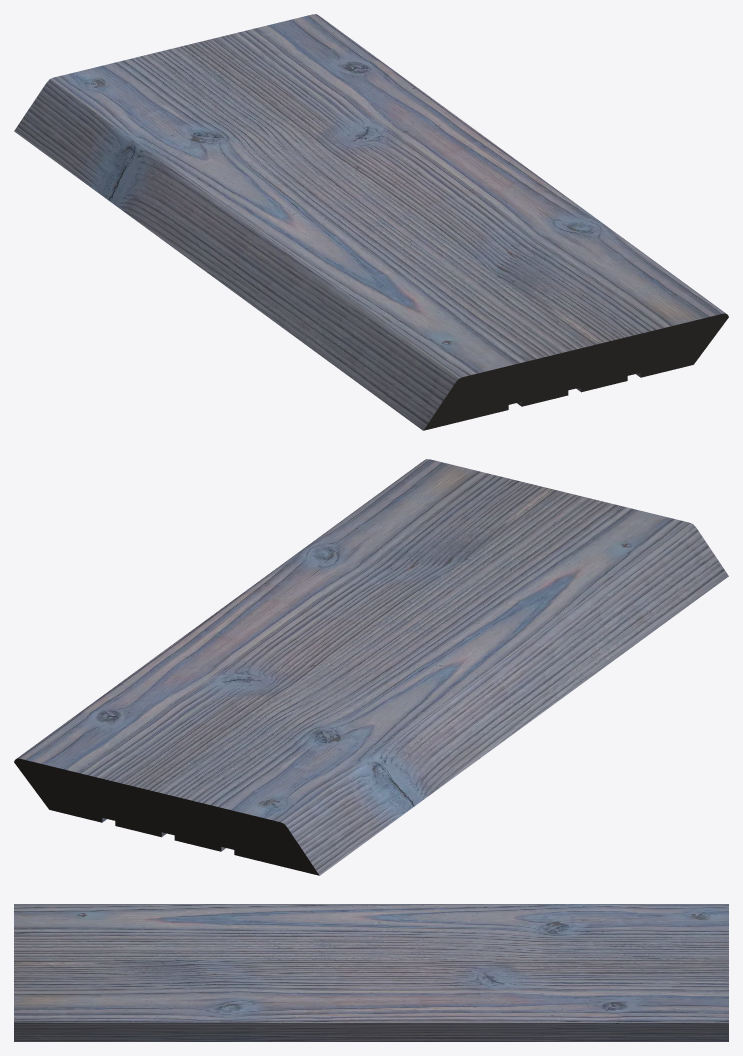
The model's file is spruce-facade-rhombus-latte.glb.
3 renders of one model, top to bottom at view 1: azimuth 30°, elevation 25°; view 2: azimuth 150°, elevation 25°; view 3: azimuth 270°, elevation 25°, orthographic. The views are drawn at different scales.
Visible parts, largest first — view 1: Rombas; view 2: Rombas; view 3: Rombas.
Boxes of the visible parts, bbox=[...] form: Rombas: bbox=[14, 14, 728, 430]; Rombas: bbox=[14, 459, 728, 875]; Rombas: bbox=[14, 904, 728, 1041].
Bounding box in the file's own units: 0.0723 × 0.00995 × 0.1675.
Materials: 3 (1 with a texture image).
